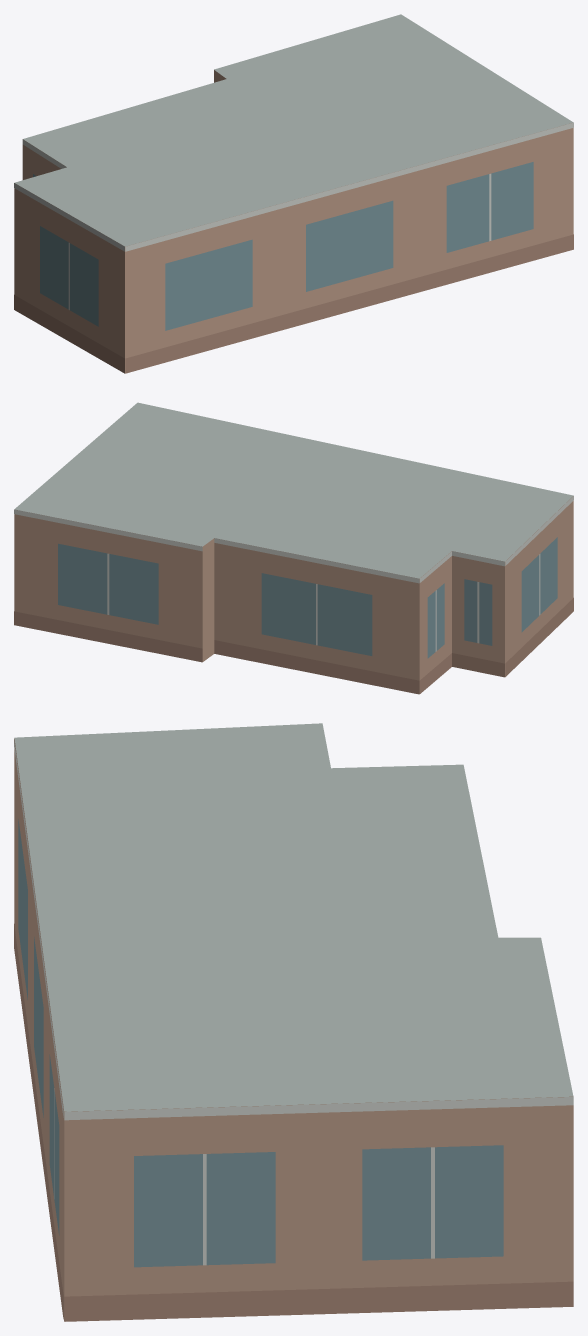
The model's file is survey-upis-32734886.glb.
The picture shows the model from 3 angles, top to bottom: view 1: azimuth 30°, elevation 25°; view 2: azimuth 150°, elevation 25°; view 3: azimuth 270°, elevation 25°; orthographic projection. The views are drawn at different scales.
Visible parts, largest first — view 1: survey-upis-32734886.tmp; view 2: survey-upis-32734886.tmp; view 3: survey-upis-32734886.tmp.
Boxes of the visible parts, x1=… form: survey-upis-32734886.tmp: x1=14, y1=14, x2=573, y2=373; survey-upis-32734886.tmp: x1=14, y1=402, x2=573, y2=694; survey-upis-32734886.tmp: x1=14, y1=723, x2=573, y2=1321.
Size of the model in its own units: 12.11 by 3.05 by 7.37.
